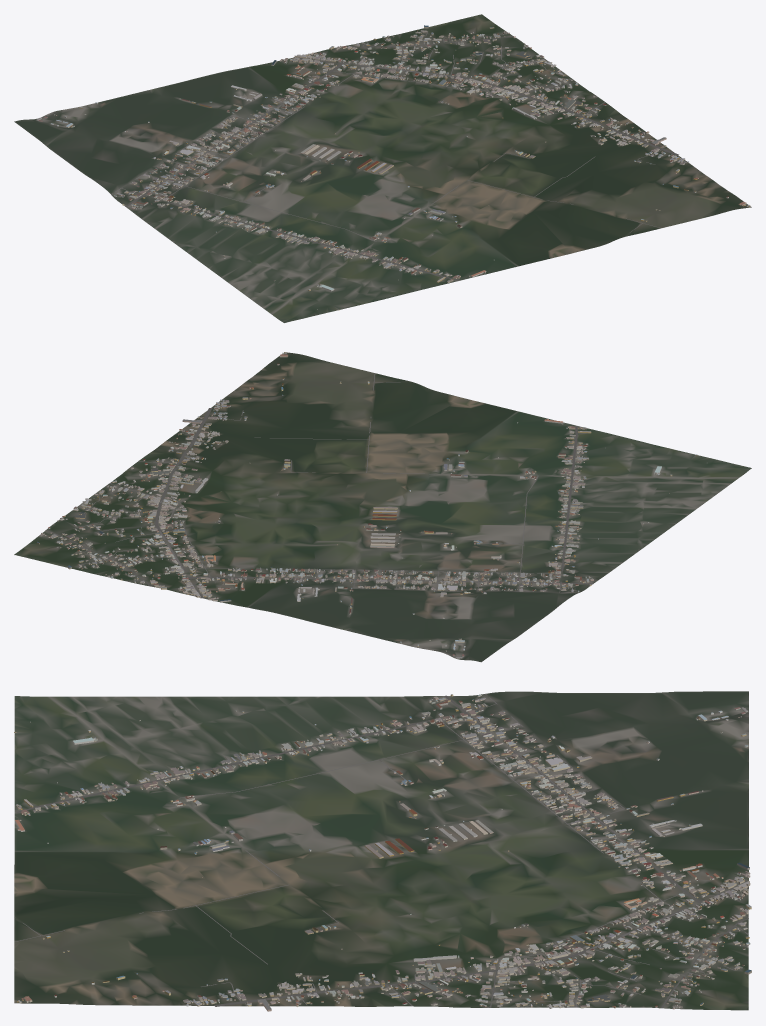
3 views of the same model, one above another, from view 1: azimuth 30°, elevation 25°; view 2: azimuth 150°, elevation 25°; view 3: azimuth 270°, elevation 25° (orthographic). The views are drawn at different scales.
Parts seen in each view (by area): view 1: ground, buildings, roads; view 2: ground, buildings, roads; view 3: ground, buildings, roads.
Part boxes in pixels (x1,y1,x2,y2): ground: (14,14,751,322); buildings: (36,25,750,310); roads: (111,32,678,280); ground: (14,352,751,662); buildings: (37,352,697,658); roads: (46,373,593,598); ground: (14,691,748,1010); buildings: (14,694,751,1011); roads: (14,693,748,1008).
Size of the model in its own units: 2848 by 43.81 by 2815.
